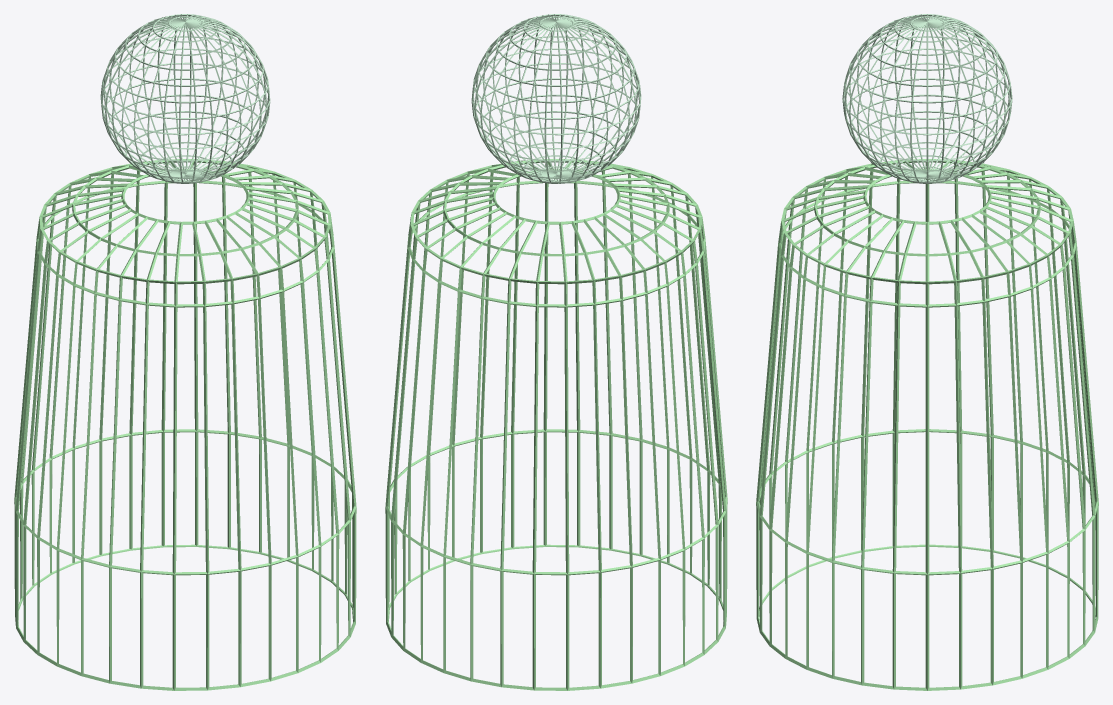
Rendered from pawn.gltf.
3 views of the same model, side by side, from view 1: azimuth 30°, elevation 25°; view 2: azimuth 150°, elevation 25°; view 3: azimuth 270°, elevation 25° (orthographic).
Parts seen in each view (by area): view 1: Cylinder, Sphere; view 2: Cylinder, Sphere; view 3: Cylinder, Sphere.
Part boxes in pixels (box(x1,y1,x2,y2)): Cylinder: box(14, 159, 356, 690); Sphere: box(100, 14, 270, 183); Cylinder: box(385, 159, 727, 690); Sphere: box(471, 14, 641, 183); Cylinder: box(756, 159, 1098, 690); Sphere: box(842, 14, 1012, 183).
Bounding box in the file's own units: 6.86 × 13.18 × 6.86.
